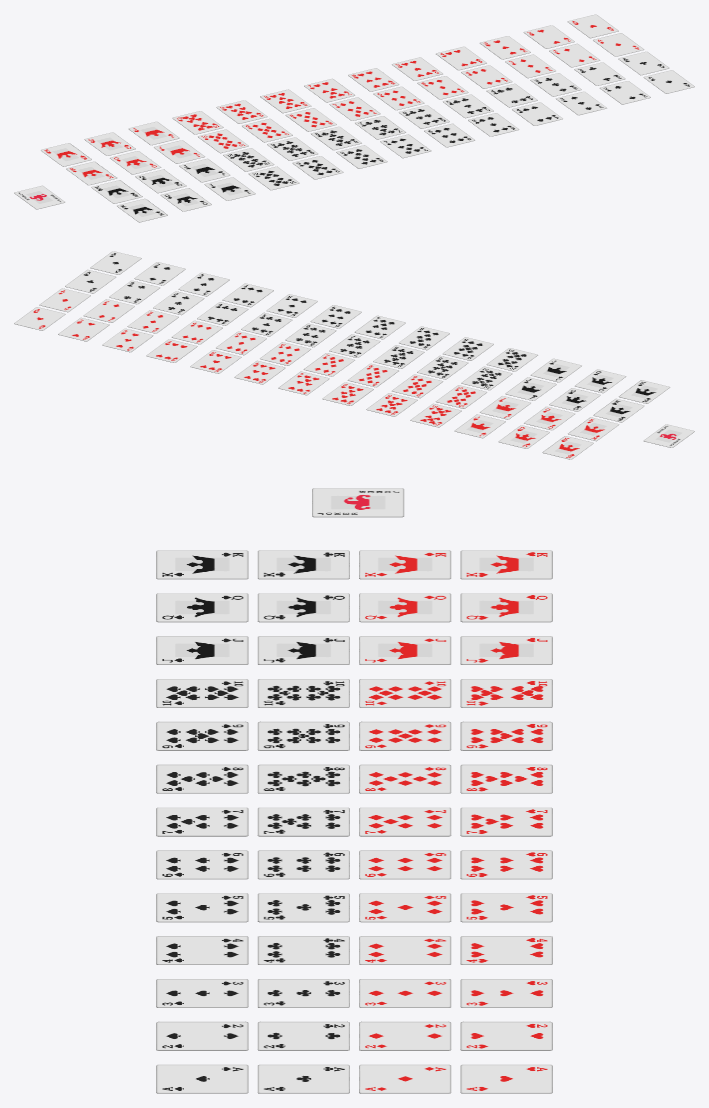
File: GreenDeck.fbx
3 views of the same model, one above another, from view 1: azimuth 30°, elevation 25°; view 2: azimuth 150°, elevation 25°; view 3: azimuth 270°, elevation 25° (orthographic). The views are drawn at different scales.
Parts seen in each view (by area): view 1: EightHeartsGreen, QueenClubsGreen, FourClubsGreen, AceHeartsGreen, TwoDiamondsGreen, TenClubsGreen, TwoSpadesGreen, JokerGreen, JackHeartsGreen, NineHeartsGreen, SevenHeartsGreen, SixHeartsGreen (+41 smaller); view 2: JackHeartsGreen, KingDiamondsGreen, NineHeartsGreen, SevenHeartsGreen, QueenDiamondsGreen, FourSpadesGreen, QueenHeartsGreen, TenHeartsGreen, EightHeartsGreen, NineDiamondsGreen, AceClubsGreen, TwoSpadesGreen (+41 smaller); view 3: SevenHeartsGreen, SixHeartsGreen, EightDiamondsGreen, SevenDiamondsGreen, AceDiamondsGreen, EightClubsGreen, SevenClubsGreen, AceClubsGreen, SevenSpadesGreen, SixSpadesGreen, JokerGreen, KingSpadesGreen (+41 smaller).
Boxes of the visible parts, x1,y1,x2,y2 form: EightHeartsGreen: [260, 89, 311, 113]; QueenClubsGreen: [135, 169, 186, 193]; FourClubsGreen: [486, 83, 537, 107]; AceHeartsGreen: [567, 14, 618, 38]; TwoDiamondsGreen: [549, 43, 600, 67]; TenClubsGreen: [223, 148, 274, 171]; TwoSpadesGreen: [599, 81, 650, 104]; JokerGreen: [14, 185, 65, 209]; JackHeartsGreen: [128, 121, 179, 145]; NineHeartsGreen: [216, 100, 267, 123]; SevenHeartsGreen: [304, 78, 355, 102]; SixHeartsGreen: [348, 68, 399, 91]; JackHeartsGreen: [454, 414, 505, 438]; KingDiamondsGreen: [568, 417, 619, 441]; NineHeartsGreen: [366, 393, 417, 416]; SevenHeartsGreen: [278, 371, 329, 395]; QueenDiamondsGreen: [524, 406, 575, 430]; FourSpadesGreen: [222, 283, 273, 307]; QueenHeartsGreen: [498, 425, 549, 448]; TenHeartsGreen: [410, 403, 461, 427]; EightHeartsGreen: [322, 382, 373, 405]; NineDiamondsGreen: [392, 374, 443, 398]; AceClubsGreen: [65, 269, 116, 293]; TwoSpadesGreen: [134, 262, 185, 285]; SevenHeartsGreen: [460, 807, 552, 836]; SixHeartsGreen: [460, 850, 552, 879]; EightDiamondsGreen: [359, 764, 451, 793]; SevenDiamondsGreen: [359, 807, 451, 836]; AceDiamondsGreen: [359, 1064, 451, 1093]; EightClubsGreen: [257, 764, 349, 793]; SevenClubsGreen: [257, 807, 349, 836]; AceClubsGreen: [257, 1064, 349, 1093]; SevenSpadesGreen: [156, 807, 248, 836]; SixSpadesGreen: [156, 850, 248, 879]; JokerGreen: [312, 488, 404, 517]; KingSpadesGreen: [156, 550, 248, 579].
Size of the model in its own units: 14.12 by 0.00481 by 3.91.
